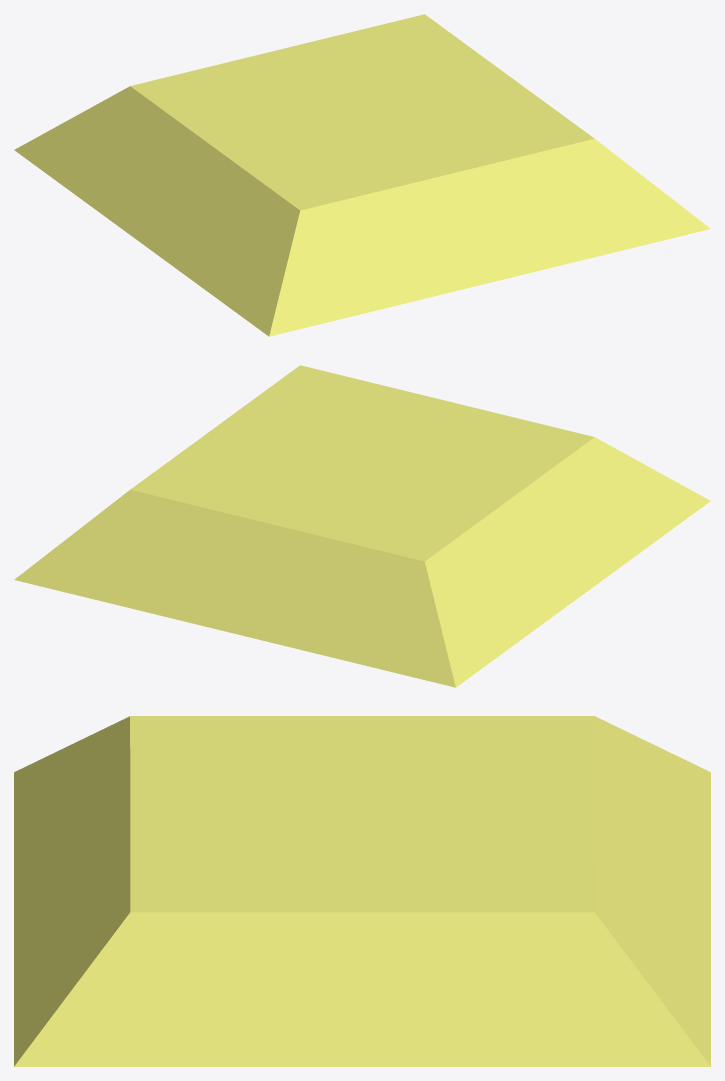
The model's file is sand.fbx.
3 renders of one model, top to bottom at view 1: azimuth 30°, elevation 25°; view 2: azimuth 150°, elevation 25°; view 3: azimuth 270°, elevation 25°, orthographic. The views are drawn at different scales.
Visible parts, largest first — view 1: corner-south, edge-south, edge-west, corner-east, corner-west, edge-north, edge-east, corner-inner-north, corner-inner-south, ground, corner-north, corner-inner-west; view 2: corner-west, edge-north, edge-west, corner-north, corner-south, edge-south, edge-east, corner-inner-north, corner-inner-south, corner-east, ground, corner-inner-west; view 3: edge-east, corner-east, corner-north, edge-south, edge-north, corner-south, corner-west, edge-west, ground, corner-inner-west, corner-inner-north, corner-inner-south.
Part boxes in pixels (x1,y1,x2,y2): corner-south: (184, 161, 416, 336); edge-south: (331, 125, 563, 300); edge-west: (99, 99, 330, 273); corner-east: (479, 107, 710, 264); corner-west: (14, 68, 245, 211); edge-north: (204, 32, 392, 98); edge-east: (394, 45, 551, 125); corner-inner-north: (246, 98, 374, 160); corner-inner-south: (361, 63, 478, 130); ground: (251, 63, 399, 136); corner-north: (351, 14, 466, 63); corner-inner-west: (330, 112, 470, 161); corner-west: (308, 512, 540, 687); edge-north: (161, 476, 393, 651); edge-west: (394, 450, 625, 624); corner-north: (14, 458, 245, 615); corner-south: (479, 419, 710, 562); edge-south: (332, 383, 520, 449); edge-east: (173, 396, 330, 476); corner-inner-north: (360, 446, 478, 512); corner-inner-south: (246, 414, 362, 480); corner-east: (258, 365, 373, 414); ground: (257, 461, 401, 511); corner-inner-west: (330, 414, 463, 462); edge-east: (246, 863, 478, 1066); corner-east: (14, 863, 246, 1066); corner-north: (478, 863, 710, 1066); edge-south: (14, 765, 246, 968); edge-north: (478, 765, 710, 968); corner-south: (14, 716, 246, 869); corner-west: (478, 716, 710, 869); edge-west: (246, 716, 478, 765); ground: (356, 765, 478, 863); corner-inner-west: (246, 765, 360, 863); corner-inner-north: (246, 765, 477, 821); corner-inner-south: (246, 814, 457, 863).
Size of the model in its own units: 300 by 50 by 300.
